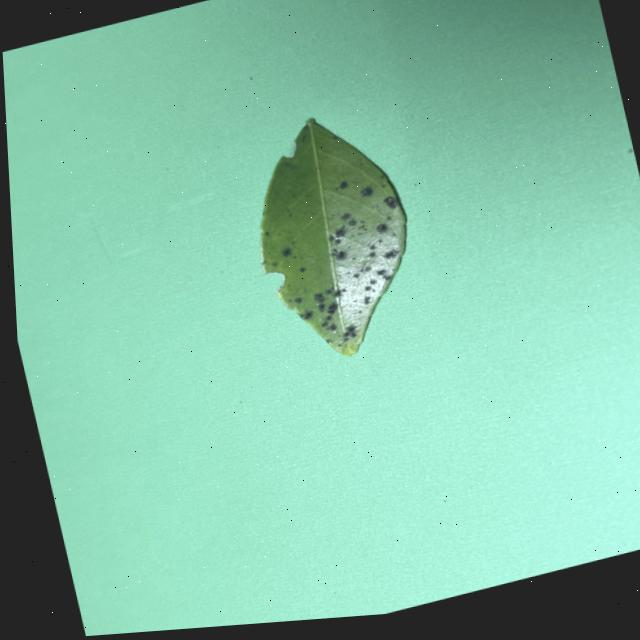sooty_mold: (260, 119, 405, 356)
